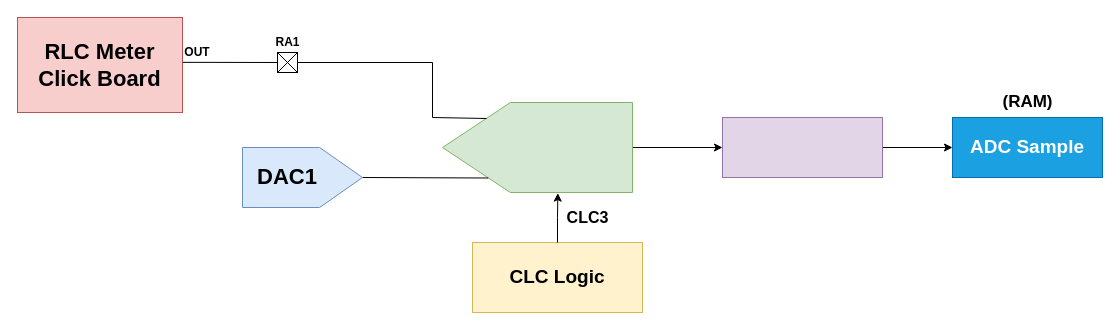
This 1120x330 diagram has some shape labels left out. The shapes that lost their labels are listed below. From the top down, each one's centre as x and y in pixels, then its label:
the point at 537,147: ADC
the point at 802,147: DMA1 / DMA3
